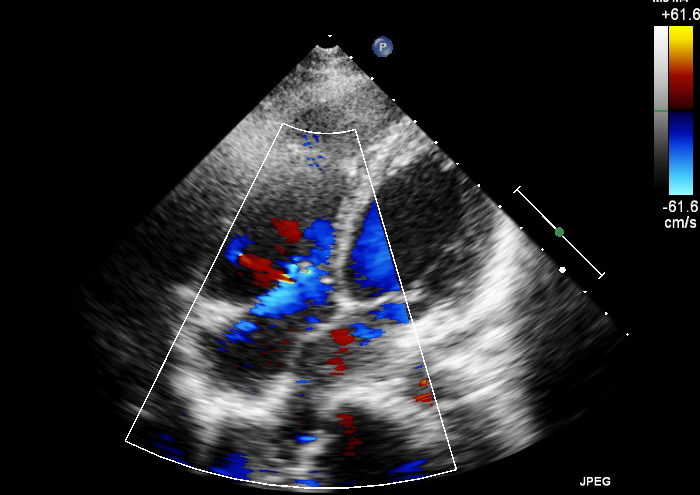TR: (213, 261, 332, 332)
